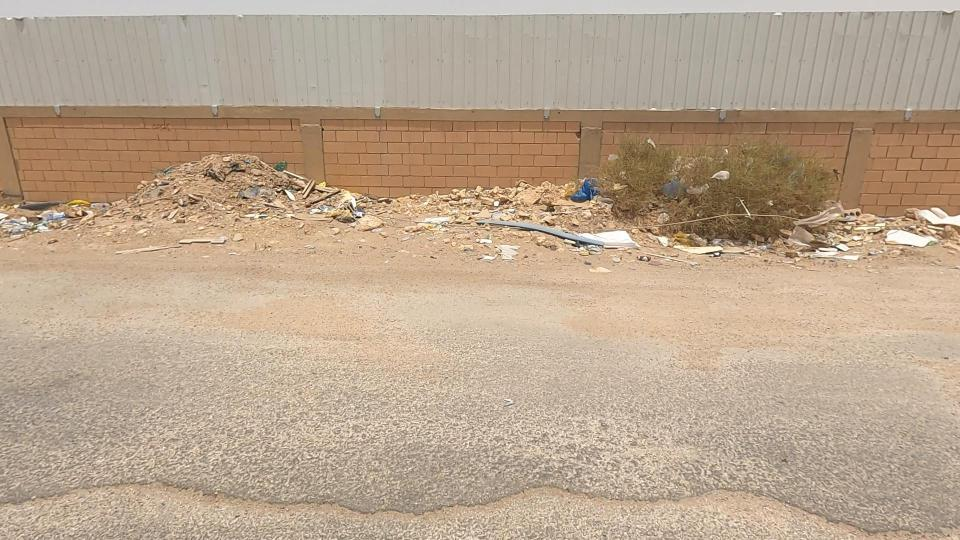GARBAGE: (406, 163, 751, 314), (694, 163, 960, 299), (224, 141, 450, 275), (0, 155, 174, 286), (517, 140, 667, 238), (171, 154, 308, 240), (632, 140, 714, 248), (107, 137, 213, 214)
